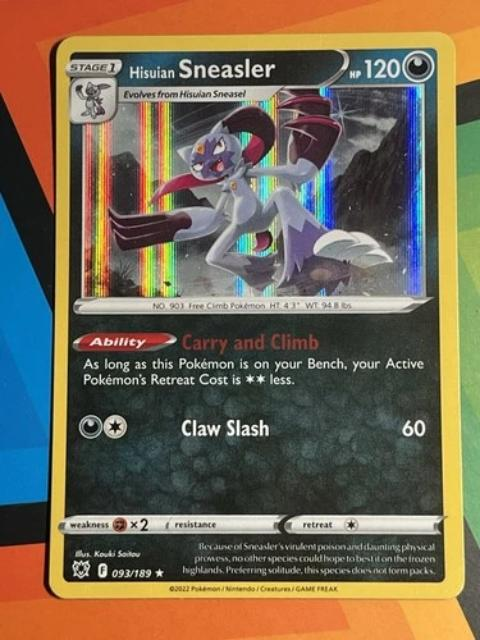Card: (46, 29, 466, 600)
Name: (124, 52, 279, 82)
